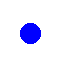circle: (20, 23, 40, 43)
